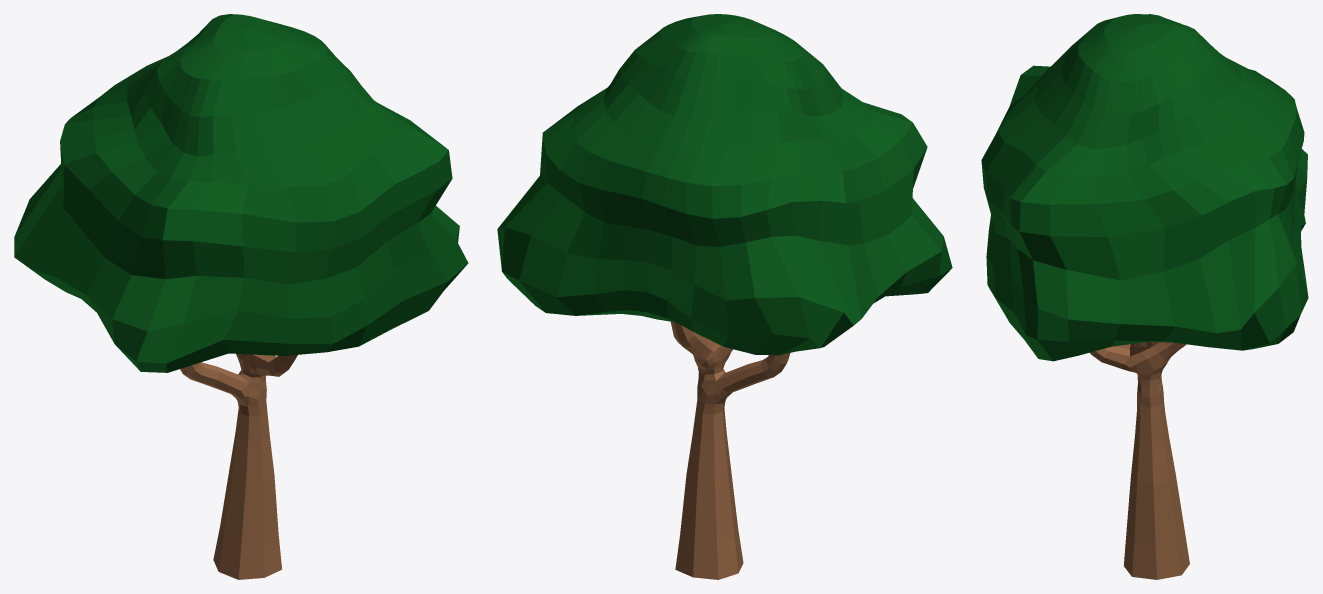
Rendered from tree-summer-complete-33-011.glb.
3 renders of one model, left to right at view 1: azimuth 30°, elevation 25°; view 2: azimuth 150°, elevation 25°; view 3: azimuth 270°, elevation 25°, orthographic.
Parts seen in each view (by area): view 1: Tree 33_70; view 2: Tree 33_70; view 3: Tree 33_70.
Part boxes in pixels (x1,y1,x2,y2): Tree 33_70: (14,14,468,579); Tree 33_70: (497,14,952,579); Tree 33_70: (981,14,1308,579).
Size of the model in its own units: 1.11 by 1.62 by 0.8905.
